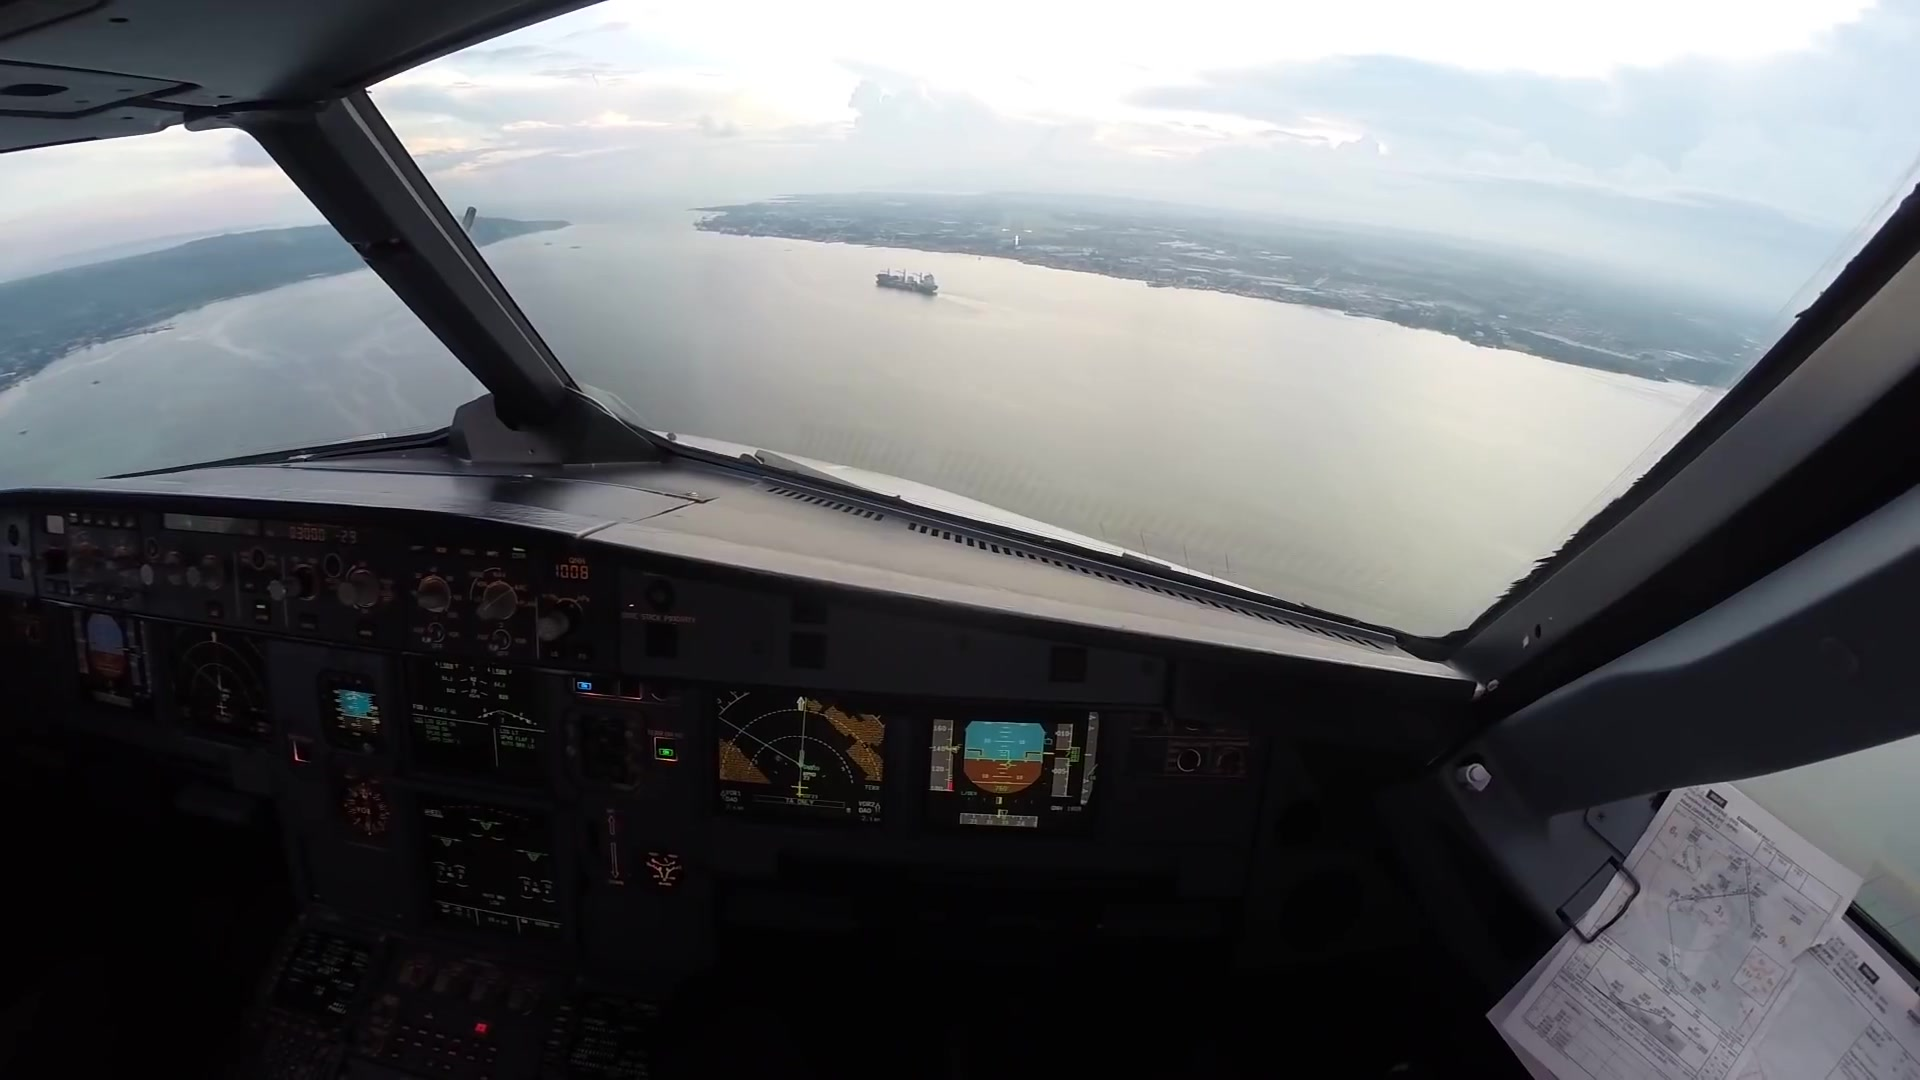runway: (1004, 196, 1030, 245)
